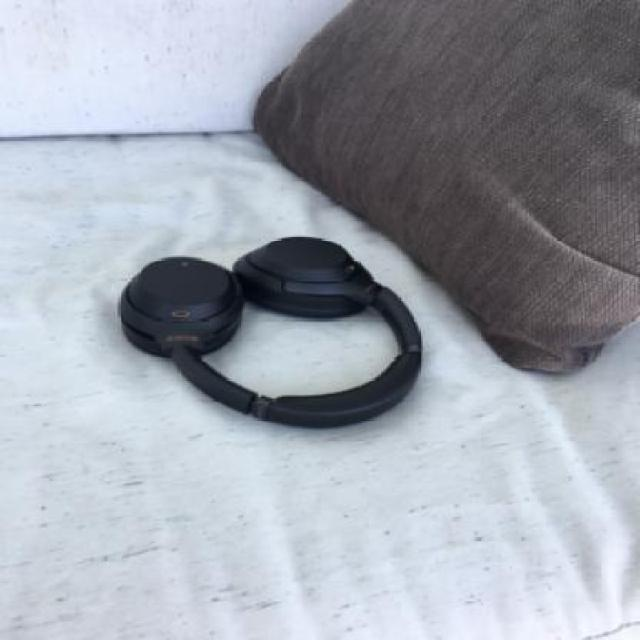earphone: (148, 196, 465, 432)
